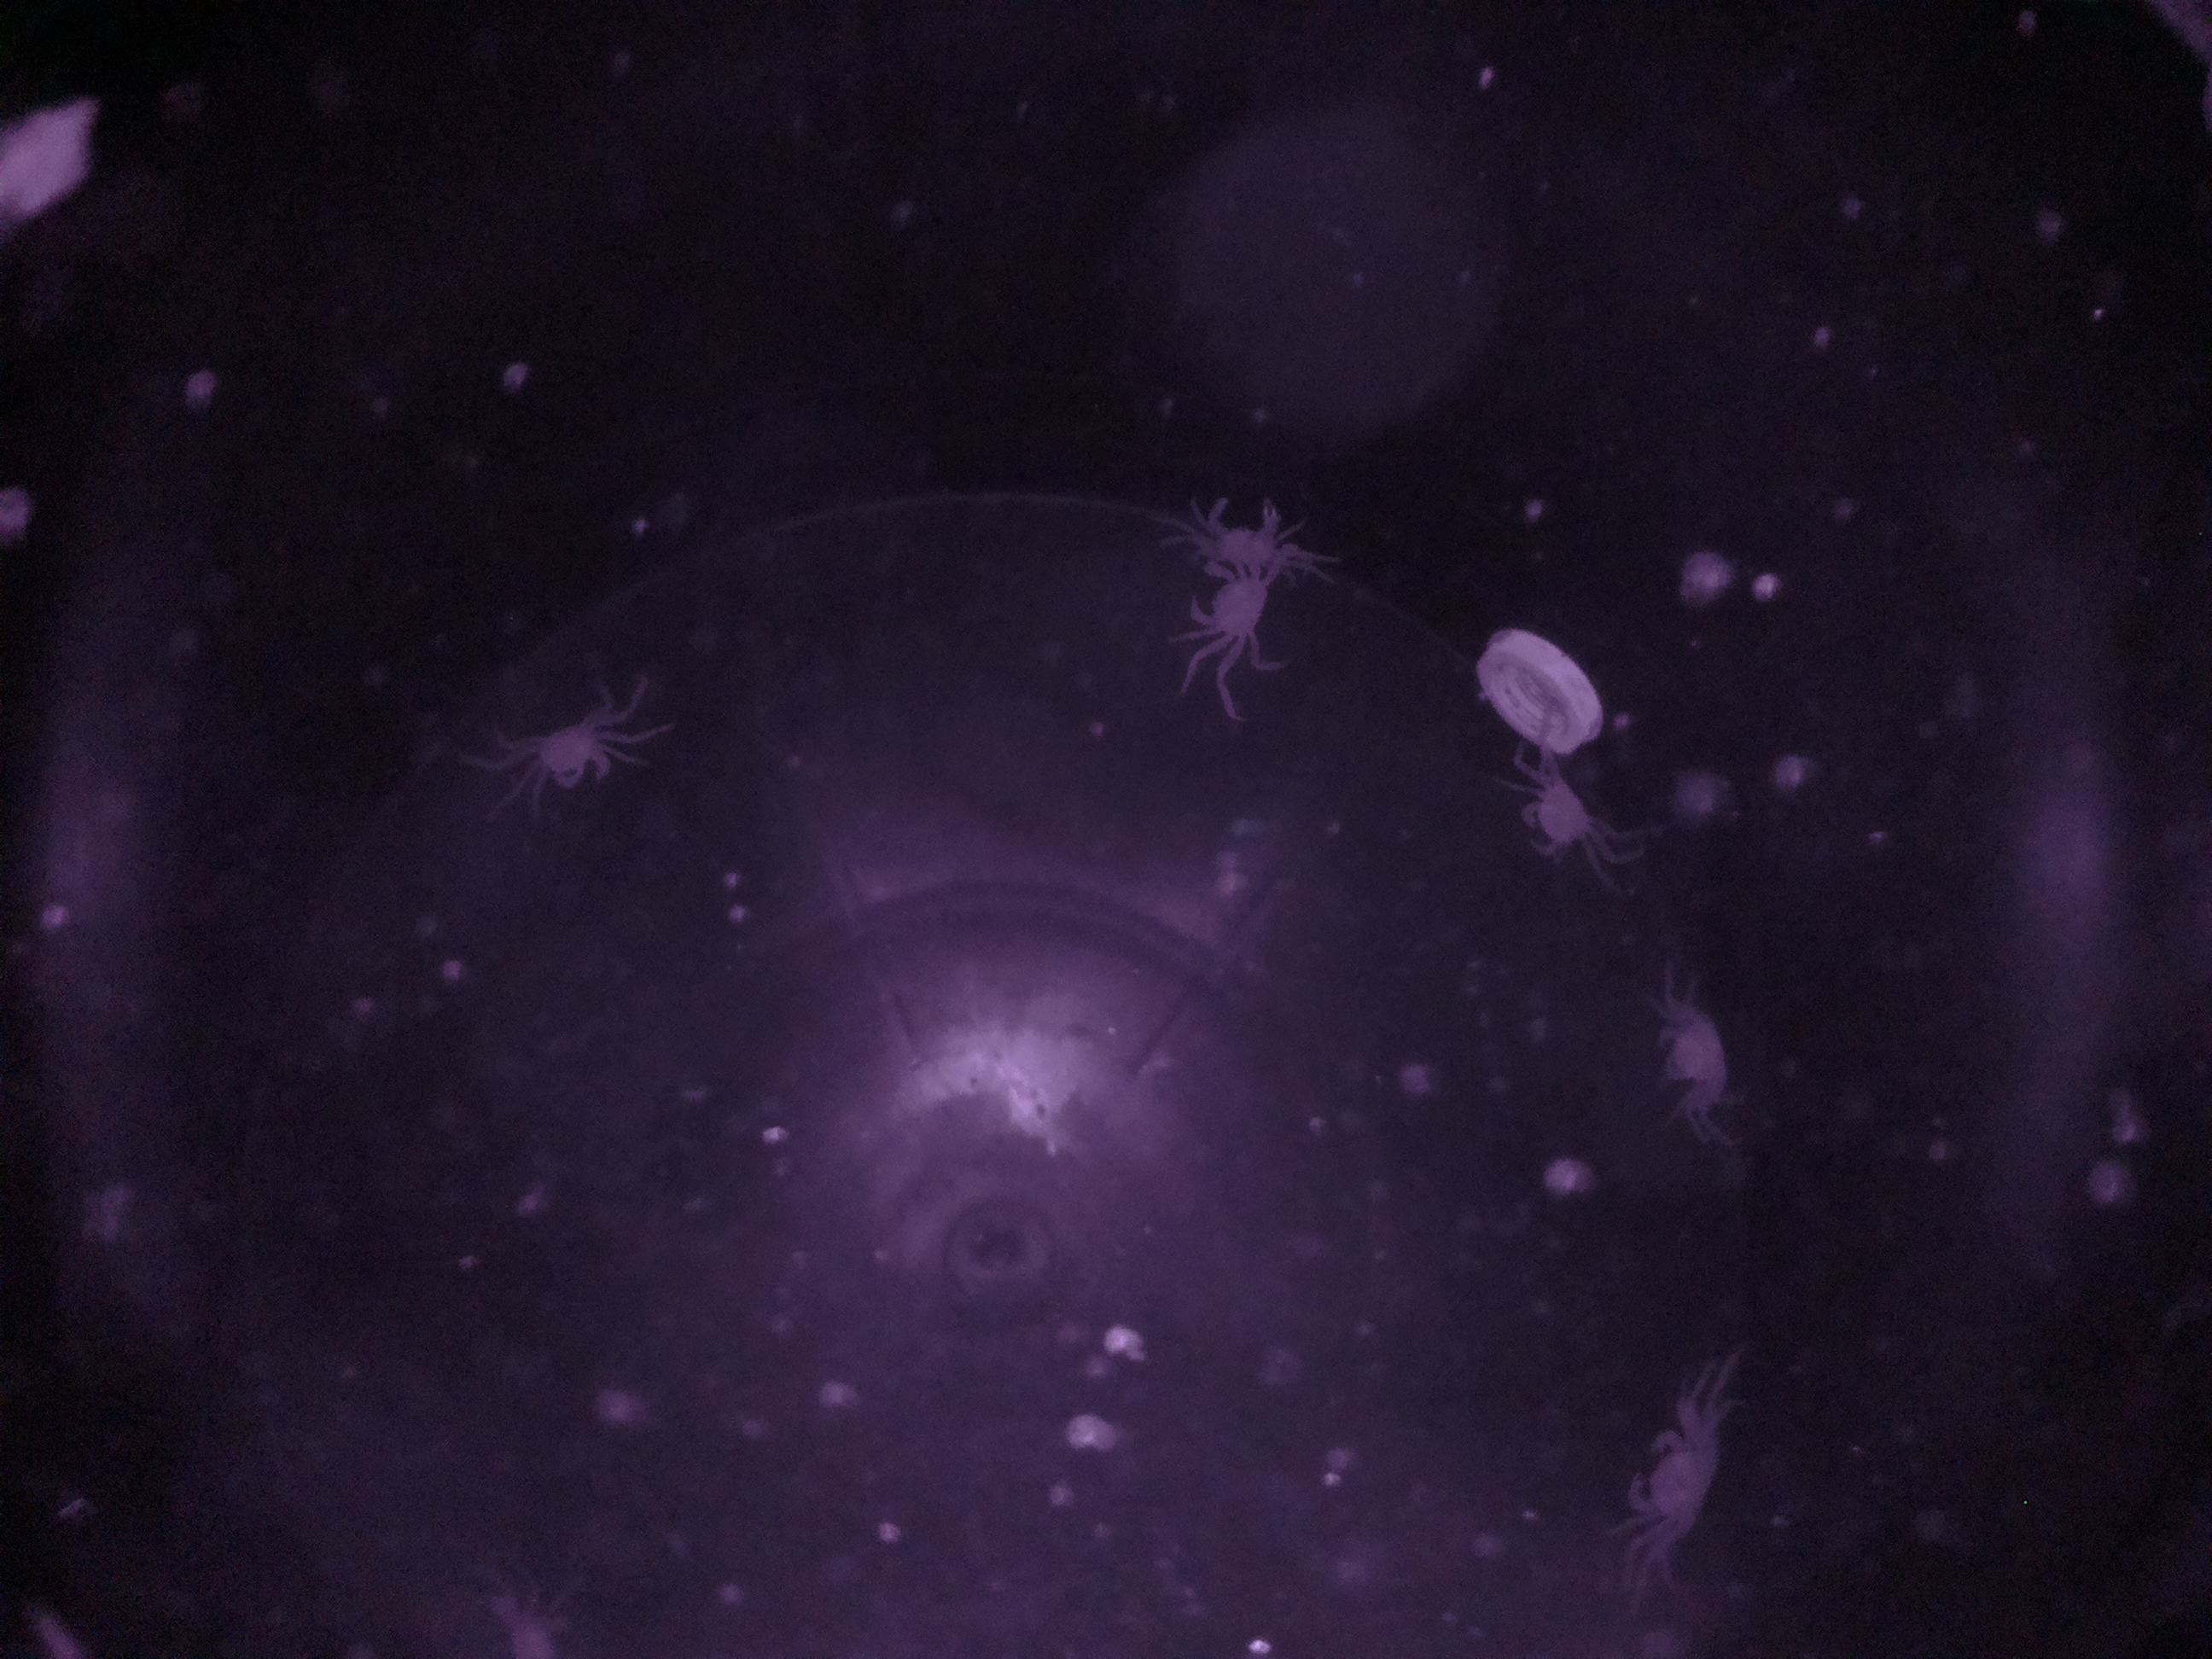Crab: (1613, 1401, 1747, 1565), (1635, 986, 1749, 1131), (1489, 758, 1611, 887), (1157, 544, 1291, 660), (514, 694, 636, 819)
